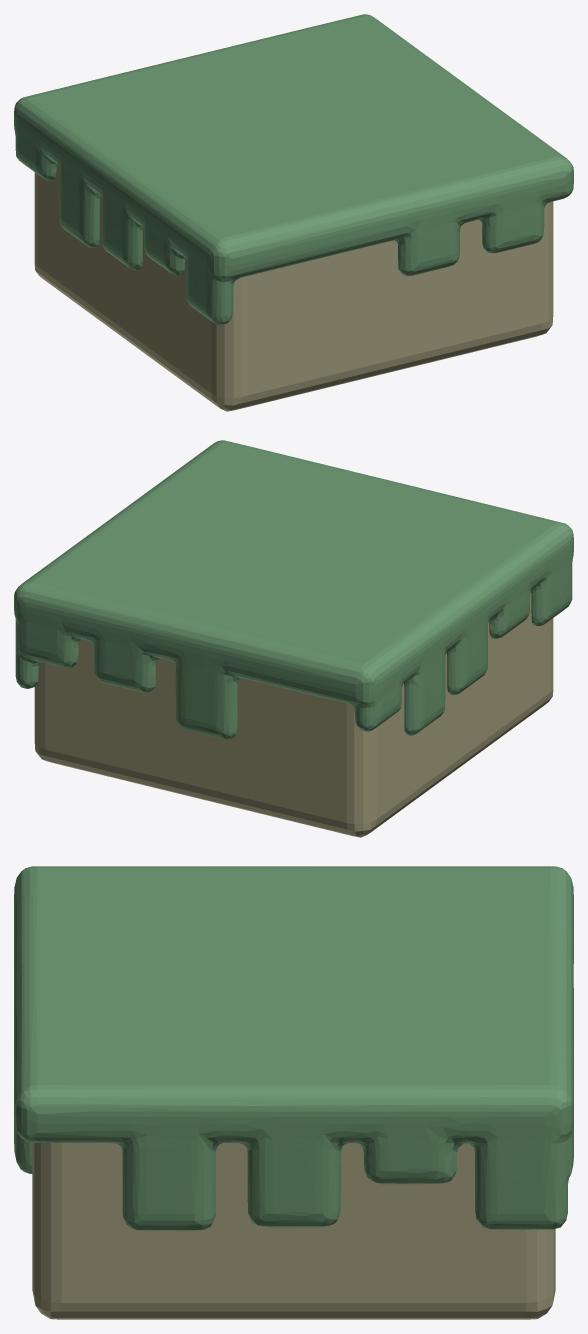
File: Block_1_POGGERS.fbx
3 renders of one model, top to bottom at view 1: azimuth 30°, elevation 25°; view 2: azimuth 150°, elevation 25°; view 3: azimuth 270°, elevation 25°, orthographic. The views are drawn at different scales.
Visible parts, largest first — view 1: BLOCK_BASE:Mesh1; view 2: BLOCK_BASE:Mesh1; view 3: BLOCK_BASE:Mesh1.
Part boxes in pixels (bbox=[...]): BLOCK_BASE:Mesh1: bbox=[14, 14, 573, 411]; BLOCK_BASE:Mesh1: bbox=[14, 440, 573, 837]; BLOCK_BASE:Mesh1: bbox=[14, 866, 573, 1319].
Size of the model in its own units: 107 by 51.1 by 107.
